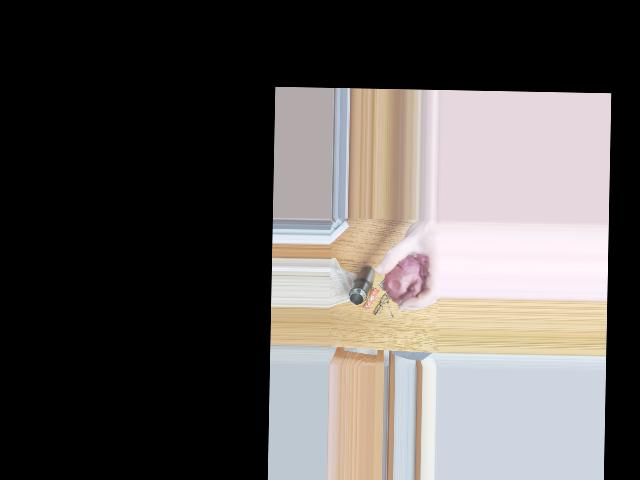onion: (389, 264, 420, 302)
